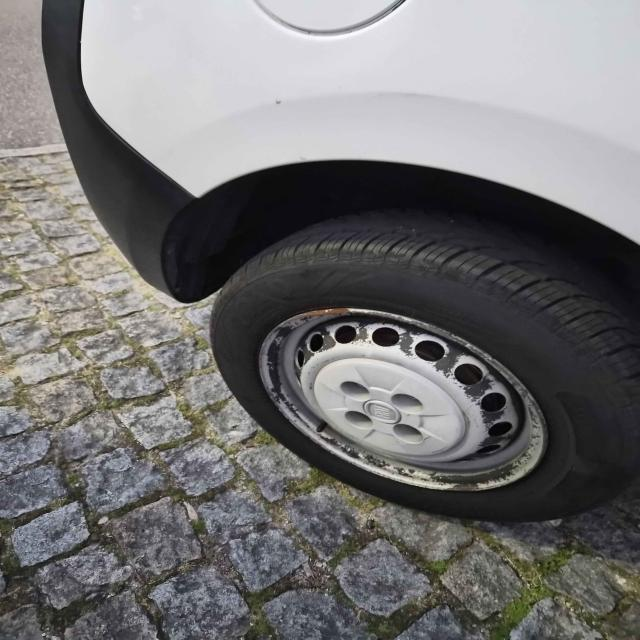jante: (257, 308, 550, 494)
parafuso: (340, 378, 371, 398), (396, 392, 422, 411), (348, 409, 372, 428), (398, 424, 421, 440)
roda: (208, 208, 640, 522)
